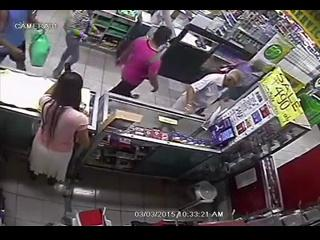Normal: (28, 71, 92, 193), (109, 26, 173, 98), (173, 68, 246, 117), (52, 11, 98, 78)
